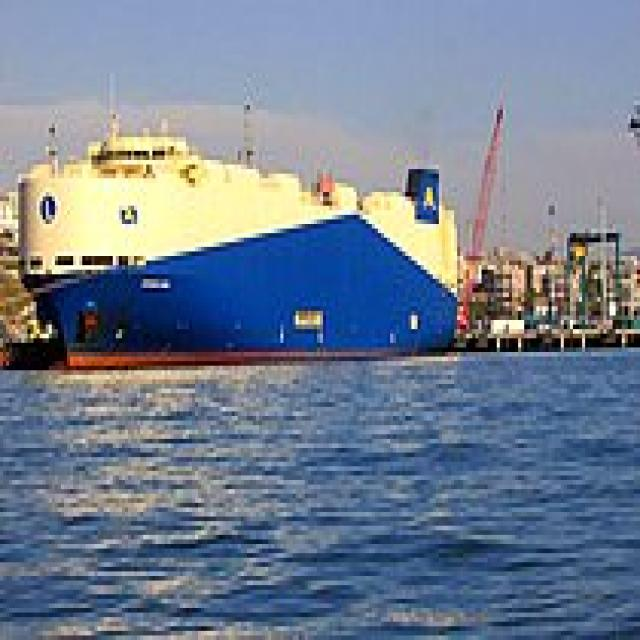Carrier: (9, 105, 460, 366)
